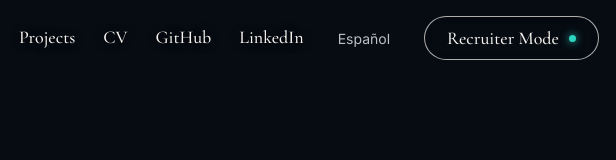
TopBar › cambia de idioma
This screenshot has width=616, height=160.
Click the button "Español" at (364, 38), box left=332, top=28, right=396, bottom=48
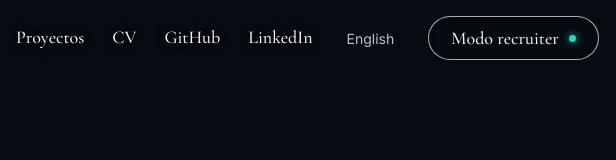
Expected: the link "Modo recruiter" is shown, left=428, top=16, right=599, bottom=60
